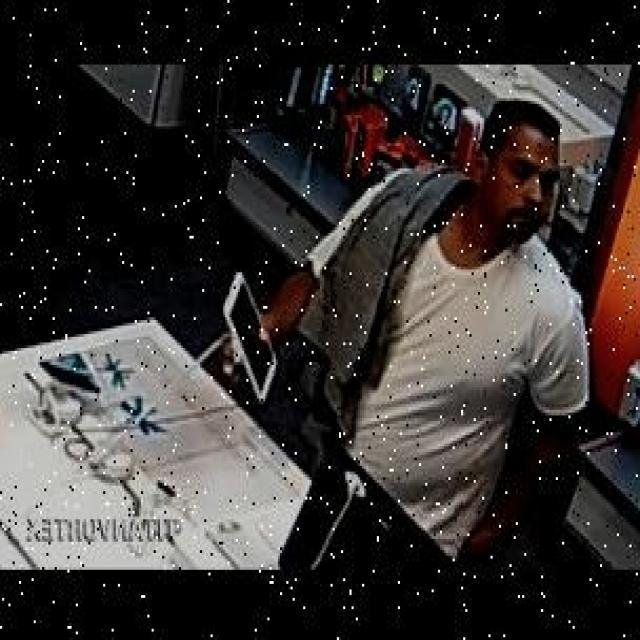Shoplifting: (183, 87, 593, 571)
